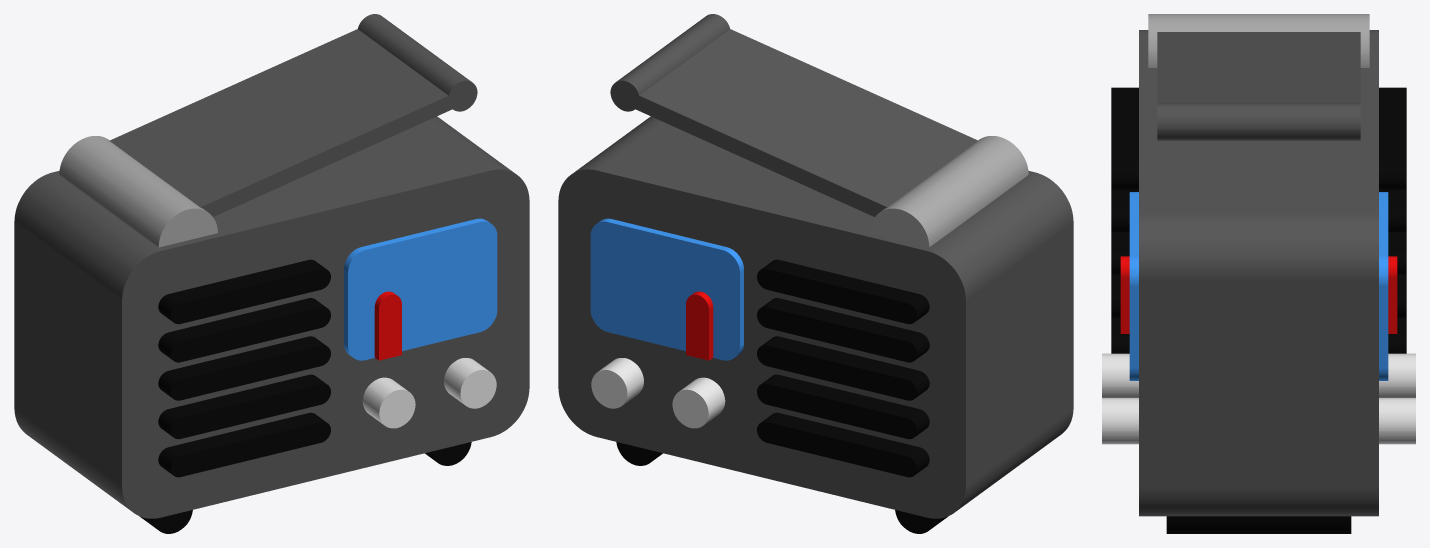
3 views of the same model, side by side, from view 1: azimuth 30°, elevation 25°; view 2: azimuth 150°, elevation 25°; view 3: azimuth 270°, elevation 25° (orthographic). The views are drawn at different scales.
Visible parts, largest first — view 1: U+1F4FB_layer03_obj00, U+1F4FB_layer01_obj00, U+1F4FB_layer06_obj00, U+1F4FB_layer04_obj00, U+1F4FB_layer02_obj00, U+1F4FB_layer07_obj00, U+1F4FB_layer05_obj00, U+1F4FB_layer00_obj00; view 2: U+1F4FB_layer03_obj00, U+1F4FB_layer01_obj00, U+1F4FB_layer06_obj00, U+1F4FB_layer04_obj00, U+1F4FB_layer02_obj00, U+1F4FB_layer07_obj00, U+1F4FB_layer05_obj00, U+1F4FB_layer00_obj00; view 3: U+1F4FB_layer03_obj00, U+1F4FB_layer01_obj00, U+1F4FB_layer06_obj00, U+1F4FB_layer07_obj00, U+1F4FB_layer02_obj00, U+1F4FB_layer04_obj00, U+1F4FB_layer00_obj00, U+1F4FB_layer05_obj00.
Boxes of the visible parts, x1,y1,x2,y2 form: U+1F4FB_layer03_obj00: [14, 116, 529, 518]; U+1F4FB_layer01_obj00: [109, 14, 477, 216]; U+1F4FB_layer06_obj00: [158, 259, 330, 477]; U+1F4FB_layer04_obj00: [344, 218, 497, 360]; U+1F4FB_layer02_obj00: [59, 136, 217, 247]; U+1F4FB_layer07_obj00: [362, 358, 496, 428]; U+1F4FB_layer05_obj00: [374, 291, 401, 360]; U+1F4FB_layer00_obj00: [139, 442, 471, 533]; U+1F4FB_layer03_obj00: [558, 116, 1073, 518]; U+1F4FB_layer01_obj00: [610, 14, 978, 216]; U+1F4FB_layer06_obj00: [757, 259, 929, 477]; U+1F4FB_layer04_obj00: [590, 218, 743, 360]; U+1F4FB_layer02_obj00: [870, 136, 1028, 247]; U+1F4FB_layer07_obj00: [591, 358, 725, 428]; U+1F4FB_layer05_obj00: [686, 291, 713, 360]; U+1F4FB_layer00_obj00: [616, 442, 948, 533]; U+1F4FB_layer03_obj00: [1139, 30, 1378, 516]; U+1F4FB_layer01_obj00: [1157, 32, 1360, 140]; U+1F4FB_layer06_obj00: [1111, 87, 1406, 353]; U+1F4FB_layer07_obj00: [1102, 353, 1415, 444]; U+1F4FB_layer02_obj00: [1148, 14, 1369, 67]; U+1F4FB_layer04_obj00: [1129, 192, 1388, 380]; U+1F4FB_layer00_obj00: [1166, 516, 1351, 533]; U+1F4FB_layer05_obj00: [1120, 256, 1397, 333].
Bounding box in the file's own units: 0.5681 × 0.5141 × 0.34.
